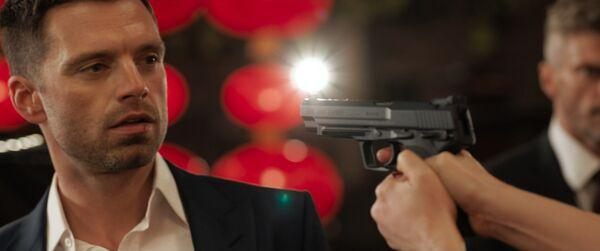Gun: (300, 93, 480, 174)
